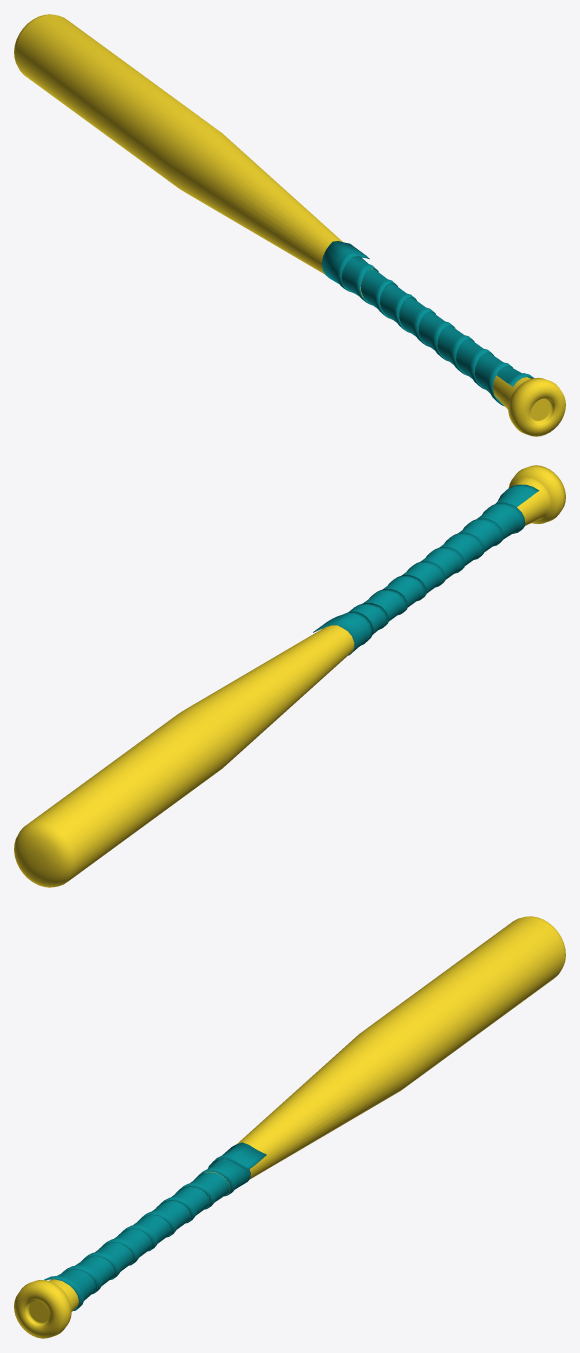
Rendered from Baseball_Bat.fbx.
The picture shows the model from 3 angles, top to bottom: view 1: azimuth 30°, elevation 25°; view 2: azimuth 150°, elevation 25°; view 3: azimuth 330°, elevation 25°; orthographic projection.
Parts seen in each view (by area): view 1: Baseball_Bat; view 2: Baseball_Bat; view 3: Baseball_Bat.
Part boxes in pixels (box(x1,y1,x2,y2)): Baseball_Bat: box(14, 14, 565, 436); Baseball_Bat: box(14, 465, 565, 887); Baseball_Bat: box(14, 916, 565, 1338).
Bounding box in the file's own units: 0.1271 × 0.1271 × 1.83.
Materials: 1 (1 with a texture image).
